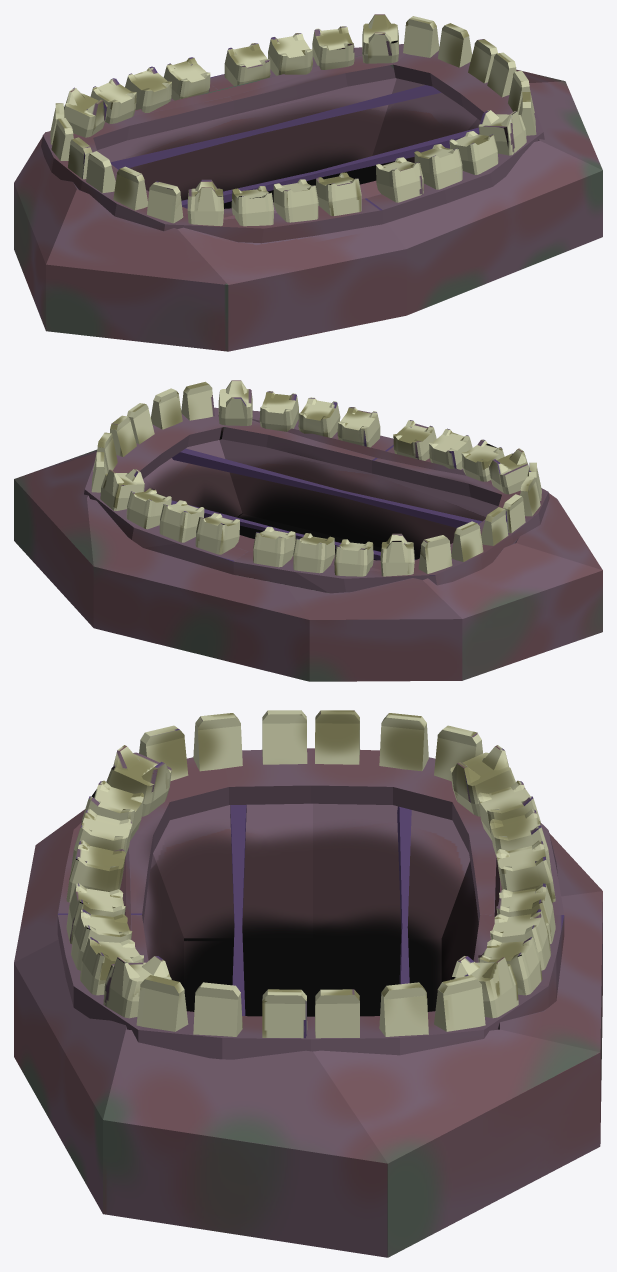
The model's file is mouth (1).fbx.
3 renders of one model, top to bottom at view 1: azimuth 30°, elevation 25°; view 2: azimuth 150°, elevation 25°; view 3: azimuth 270°, elevation 25°, orthographic. The views are drawn at different scales.
Visible parts, largest first — view 1: Cube.007; view 2: Cube.007; view 3: Cube.007.
Part boxes in pixels (left/top/right/bottom): Cube.007: left=14, top=14, right=602, bottom=351; Cube.007: left=14, top=380, right=602, bottom=681; Cube.007: left=14, top=710, right=602, bottom=1257.
Bounding box in the file's own units: 272 × 63.58 × 170.
Materials: 1 (1 with a texture image).
